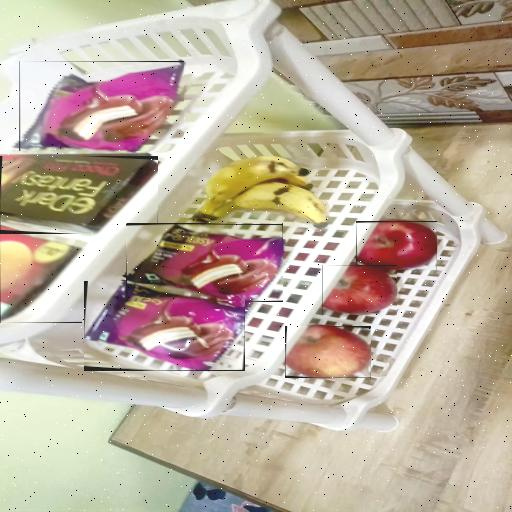Apple: (285, 326, 371, 378), (356, 221, 437, 270), (322, 265, 397, 315)
Choco Fills: (0, 156, 158, 234), (0, 230, 82, 323)
Choco Pie: (19, 61, 184, 151), (84, 281, 245, 371), (126, 225, 283, 301)
